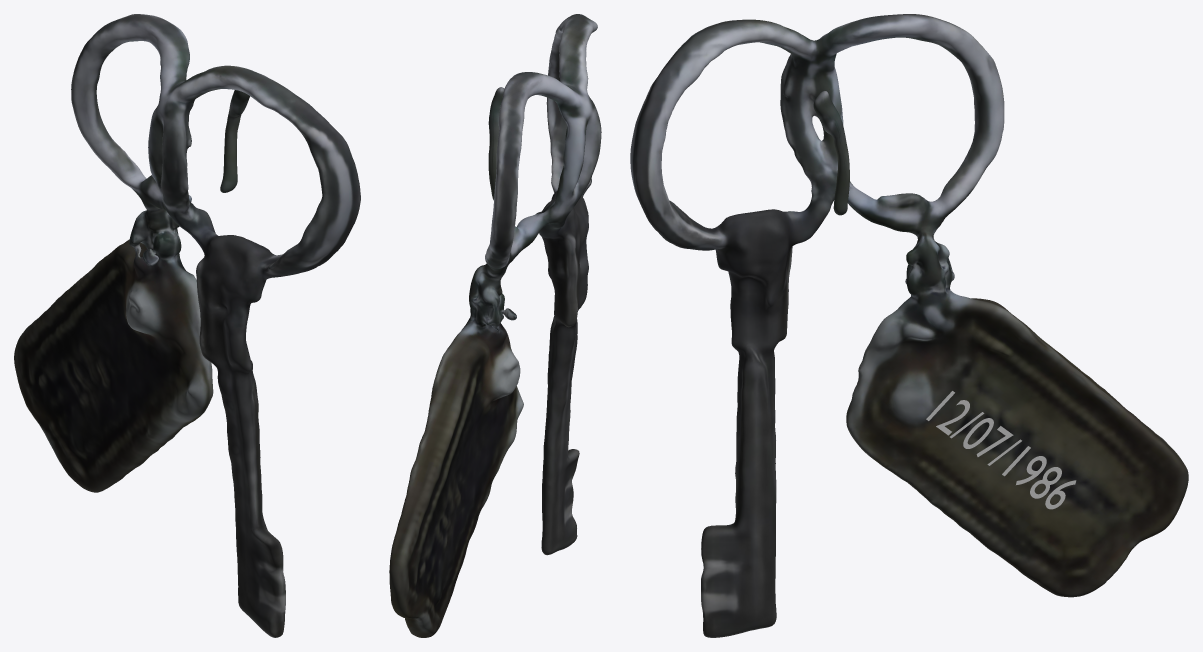
File: key.glb
The picture shows the model from 3 angles, left to right: view 1: azimuth 30°, elevation 25°; view 2: azimuth 150°, elevation 25°; view 3: azimuth 270°, elevation 25°; orthographic projection. The views are drawn at different scales.
Parts seen in each view (by area): view 1: high_poly; view 2: high_poly; view 3: high_poly, Text.
Part boxes in pixels (x1=…): high_poly: x1=14, y1=14, x2=360, y2=637; high_poly: x1=389, y1=14, x2=601, y2=637; high_poly: x1=630, y1=14, x2=1188, y2=637; Text: x1=926, y1=391, x2=1076, y2=509.
Size of the model in its own units: 0.2324 by 1 by 0.8354.
1 material, 1 textured.
